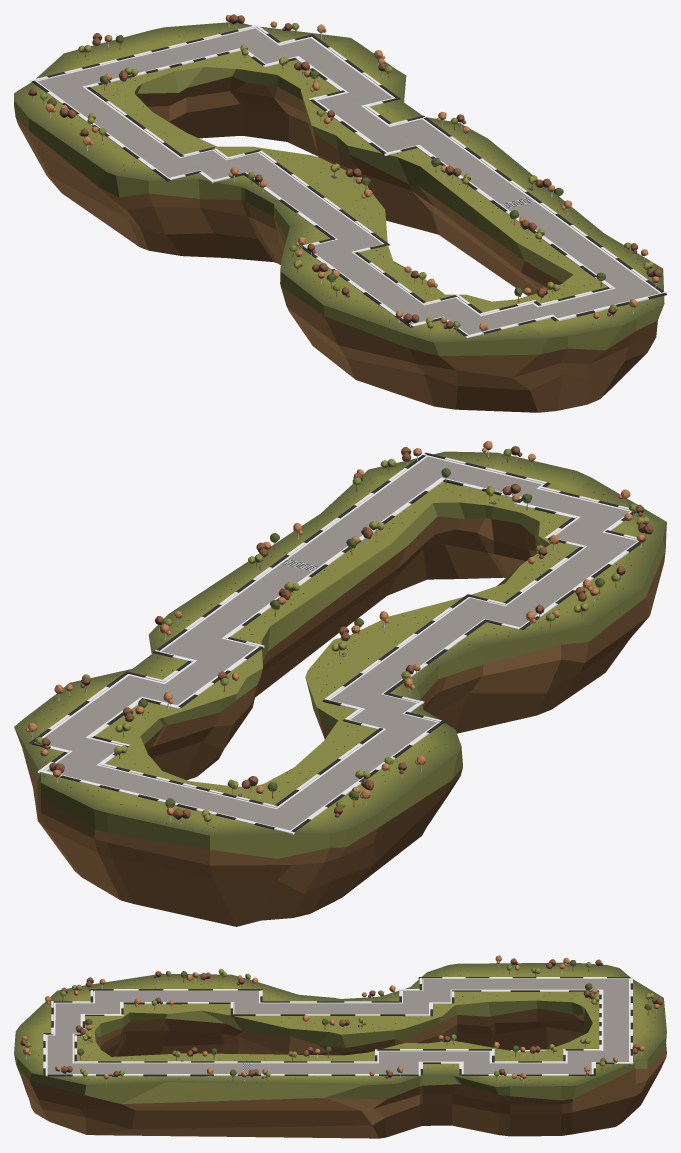
Rendered from Stage.fbx.
3 views of the same model, one above another, from view 1: azimuth 30°, elevation 25°; view 2: azimuth 150°, elevation 25°; view 3: azimuth 270°, elevation 25° (orthographic). The views are drawn at different scales.
Parts seen in each view (by area): view 1: Land, Road.011, Road.006, Road, Road.004, Road.007, Road.002, Road.001, Road.010, Road.008, Road.003, Road.005 (+3 smaller); view 2: Land, Road.011, Road.006, Road, Road.004, Road.007, Road.002, Road.001, Road.008, Road.010, Road.003, Road.005 (+4 smaller); view 3: Land, Road.011, Road.006, Road, Road.004, Road.007, Road.002, Road.001, Road.008, Road.010, Road.003, Edge.001 (+6 smaller).
Boxes of the visible parts, <box> form: Land: <box>14,14,664,412</box>; Road.011: <box>391,118,662,300</box>; Road.006: <box>227,151,384,251</box>; Road: <box>54,87,199,178</box>; Road.004: <box>35,35,240,94</box>; Road.007: <box>305,239,441,324</box>; Road.002: <box>280,36,395,105</box>; Road.001: <box>314,92,417,152</box>; Road.010: <box>539,288,629,318</box>; Road.008: <box>425,297,499,335</box>; Road.003: <box>224,27,296,64</box>; Road.005: <box>181,149,244,179</box>; Land: <box>14,441,666,926</box>; Road.011: <box>158,455,462,660</box>; Road.006: <box>328,597,504,708</box>; Road: <box>276,713,439,816</box>; Road.004: <box>79,765,310,831</box>; Road.007: <box>486,532,638,627</box>; Road.002: <box>34,674,163,751</box>; Road.001: <box>143,638,259,706</box>; Road.008: <box>550,502,631,546</box>; Road.010: <box>443,464,544,497</box>; Road.003: <box>43,737,122,779</box>; Road.005: <box>348,694,418,728</box>; Land: <box>14,955,666,1138</box>; Road.011: <box>45,1062,420,1074</box>; Road.006: <box>233,1002,430,1014</box>; Road: <box>422,978,601,990</box>; Road.004: <box>601,978,630,1050</box>; Road.007: <box>93,990,260,1002</box>; Road.002: <box>461,1062,593,1074</box>; Road.001: <box>377,1050,491,1062</box>; Road.008: <box>54,1002,121,1014</box>; Road.010: <box>45,1034,74,1062</box>; Road.003: <box>565,1050,630,1062</box>; Edge.001: <box>45,1074,420,1076</box>.
Size of the model in its own units: 11125 by 3455 by 24693.
